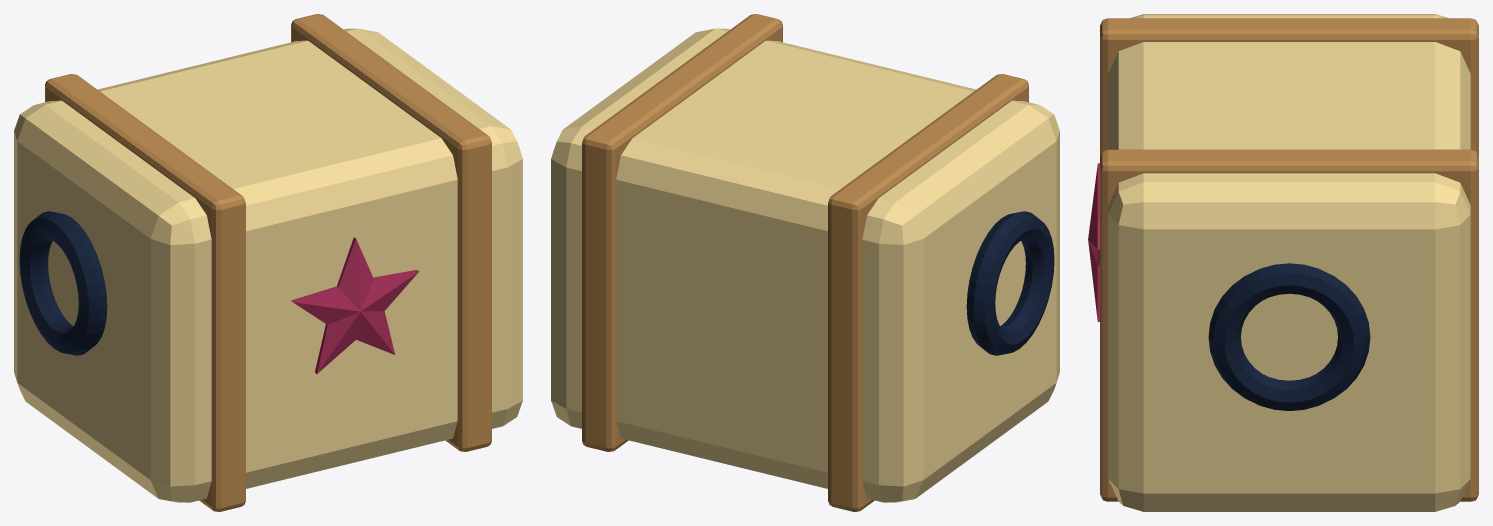
Rendered from Mission_gold_delivery.fbx.
3 views of the same model, side by side, from view 1: azimuth 30°, elevation 25°; view 2: azimuth 150°, elevation 25°; view 3: azimuth 270°, elevation 25° (orthographic). The views are drawn at different scales.
Visible parts, largest first — view 1: Mission_gold_delivery.Mesh; view 2: Mission_gold_delivery.Mesh; view 3: Mission_gold_delivery.Mesh.
Boxes of the visible parts, bbox=[...] form: Mission_gold_delivery.Mesh: bbox=[14, 14, 522, 511]; Mission_gold_delivery.Mesh: bbox=[551, 14, 1059, 511]; Mission_gold_delivery.Mesh: bbox=[1088, 14, 1478, 511].
Bounding box in the file's own units: 85 × 58 × 60.35.
